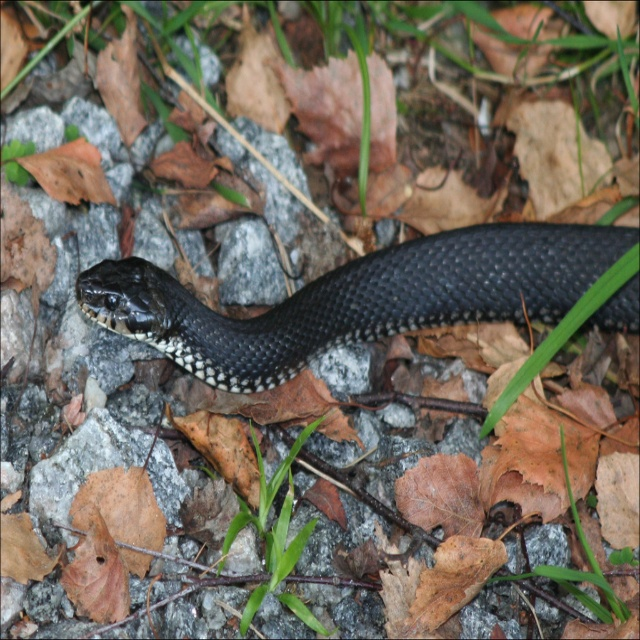Snake: (75, 220, 640, 394)
